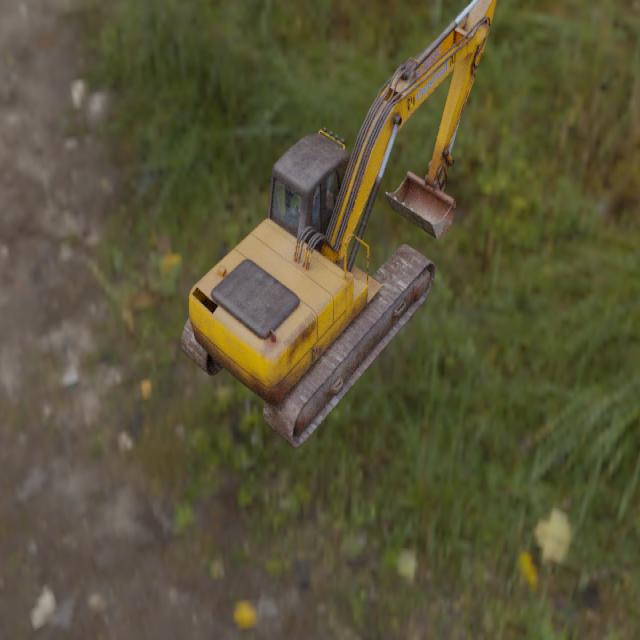excavator: (180, 0, 496, 449)
